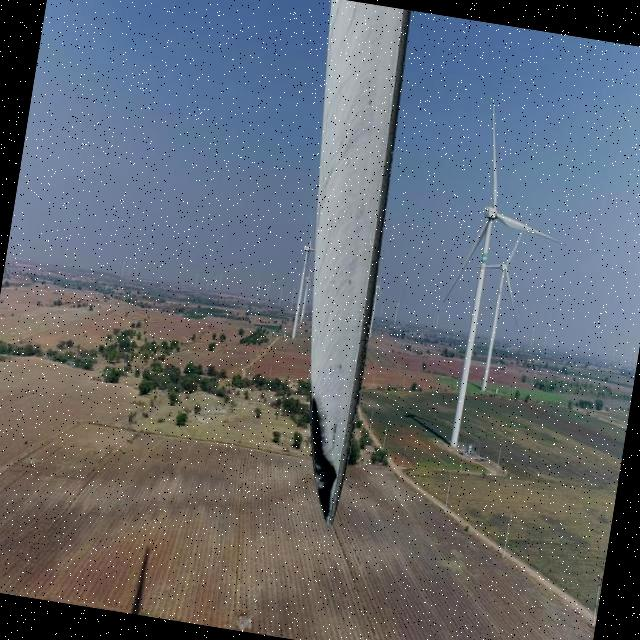Dirt: (315, 0, 410, 523)
Oil LEAKAGE: (306, 392, 339, 524)
